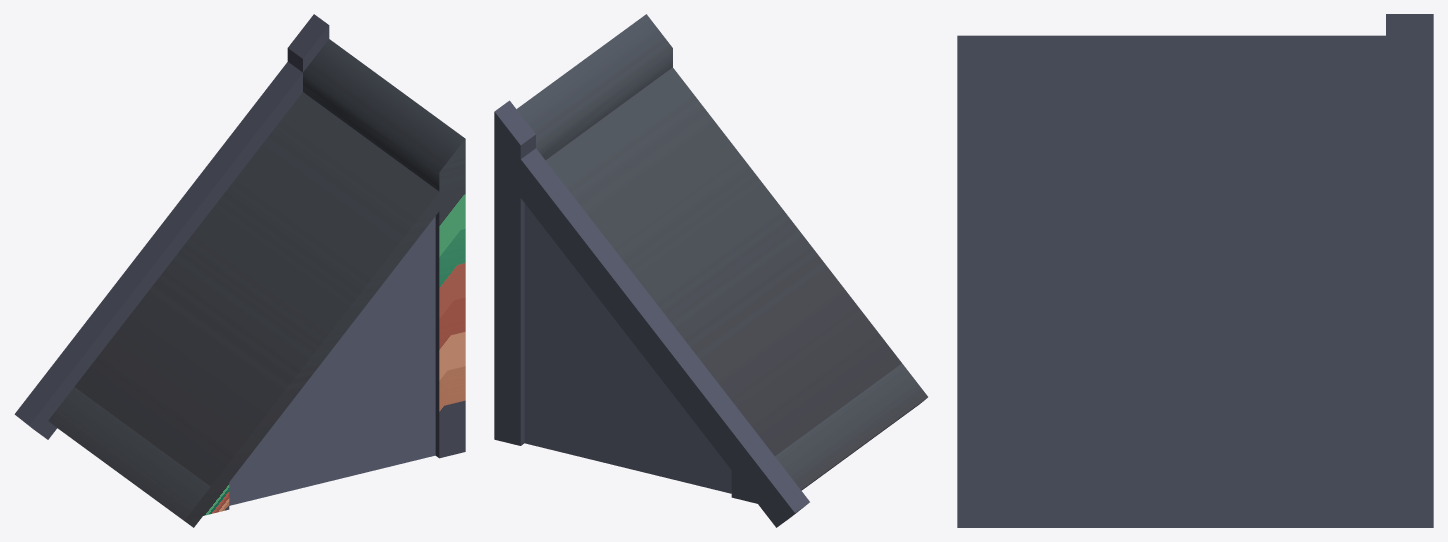
The model's file is roof-high-left.glb.
The picture shows the model from 3 angles, left to right: view 1: azimuth 30°, elevation 25°; view 2: azimuth 150°, elevation 25°; view 3: azimuth 270°, elevation 25°; orthographic projection. The views are drawn at different scales.
Parts seen in each view (by area): view 1: roof-high-left; view 2: roof-high-left; view 3: roof-high-left.
Boxes of the visible parts, box(x1,y1,x2,y2) form: roof-high-left: box(14, 14, 465, 527); roof-high-left: box(494, 14, 927, 527); roof-high-left: box(957, 14, 1433, 527).
Size of the model in its own units: 1.14 by 1.26 by 1.
Materials: 1 (1 with a texture image).
